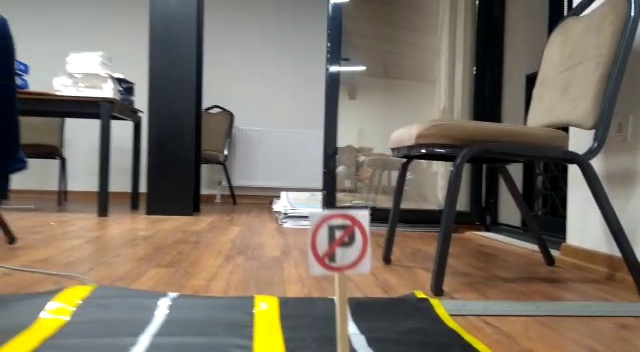park_yapilmaz: (306, 208, 370, 274)
